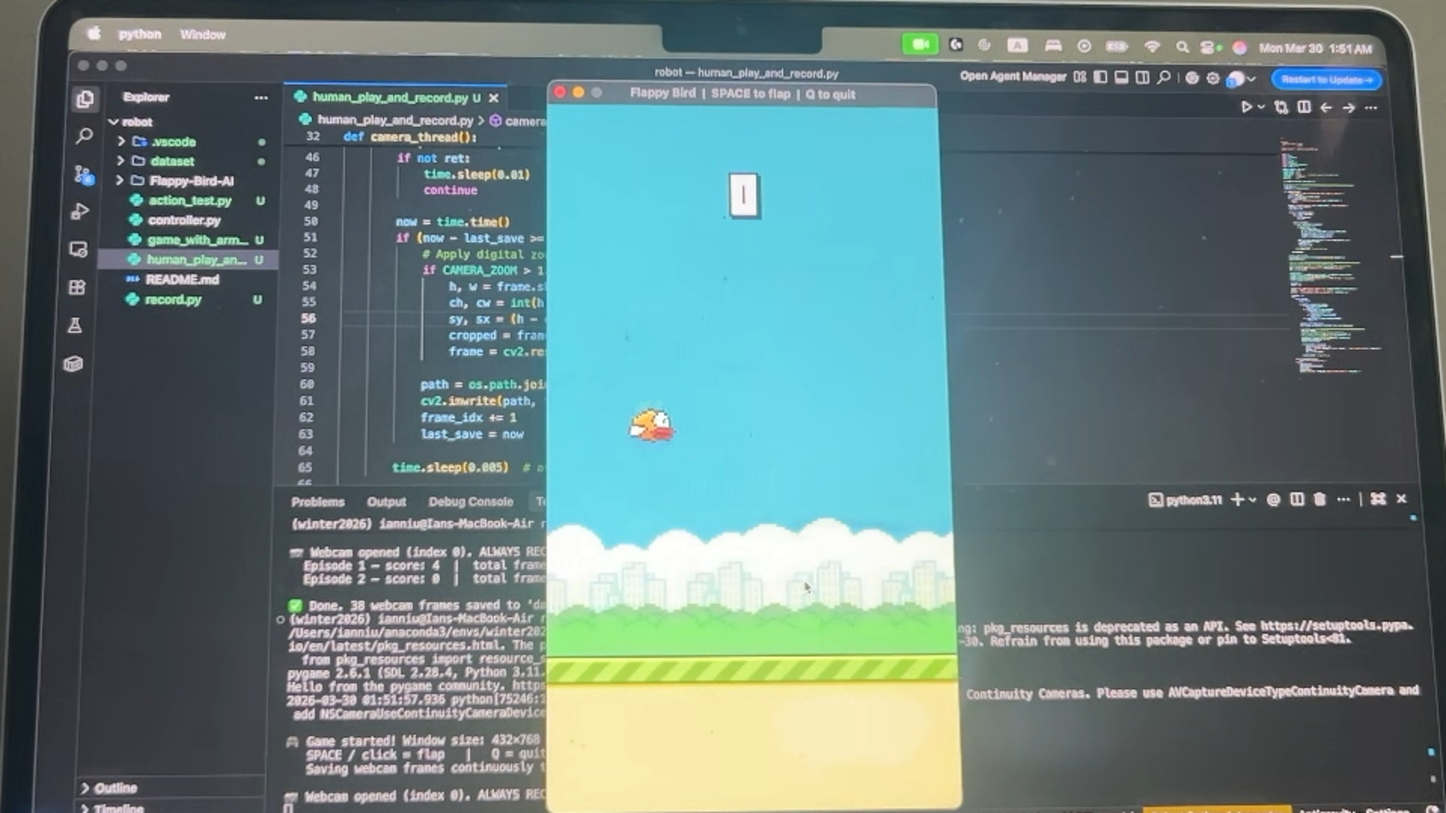bird: (626, 399, 675, 447)
